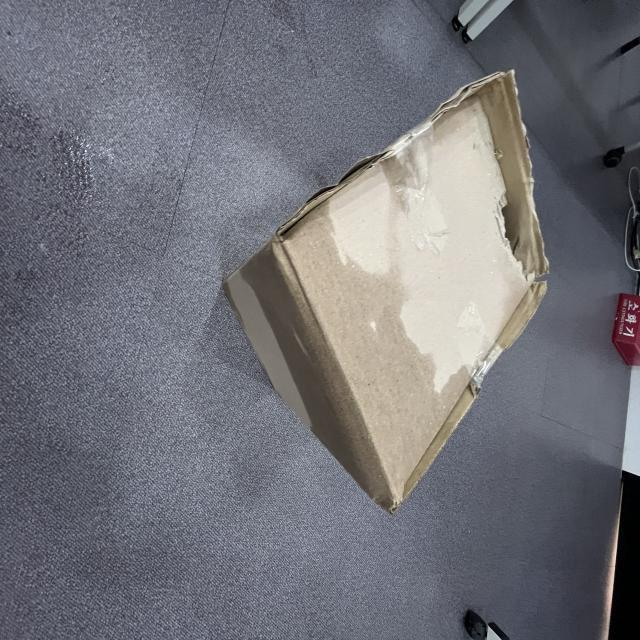hole: (478, 174, 560, 290)
wet: (248, 202, 483, 499)
